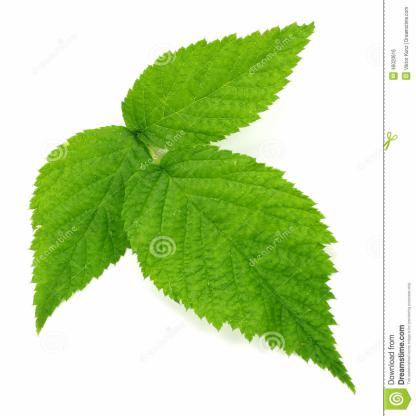raspberry leaf: (121, 144, 363, 393), (19, 125, 156, 336), (121, 19, 320, 148)
